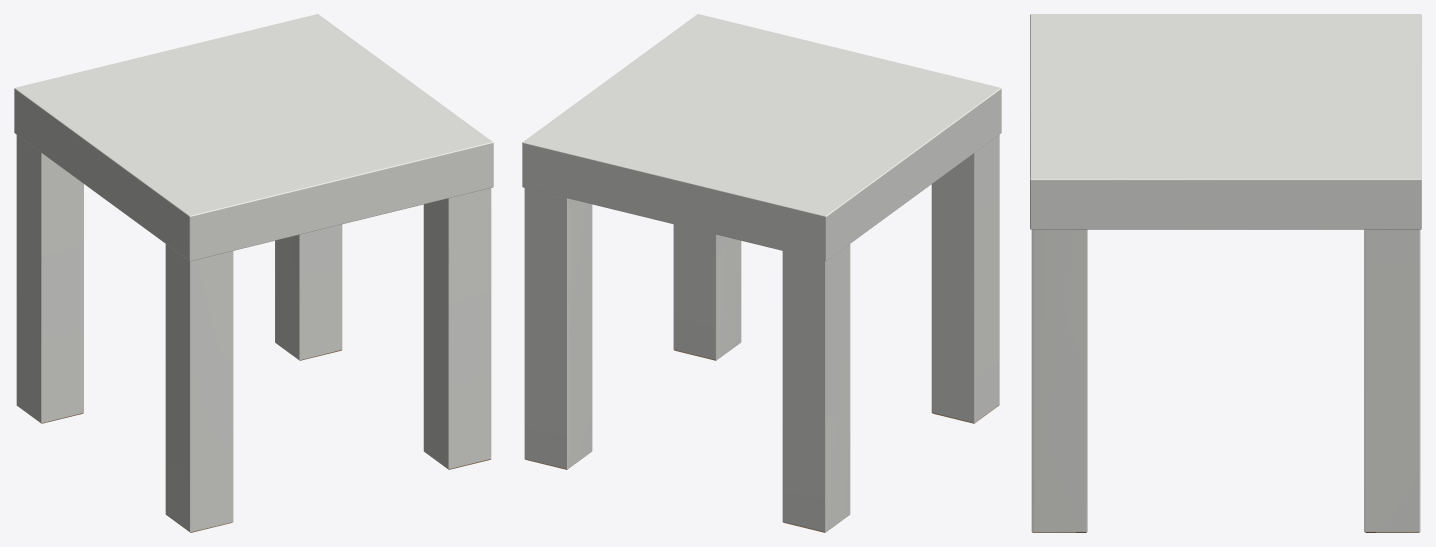
The model's file is lack_side_table_white.glb.
3 views of the same model, side by side, from view 1: azimuth 30°, elevation 25°; view 2: azimuth 150°, elevation 25°; view 3: azimuth 270°, elevation 25° (orthographic). The views are drawn at different scales.
Parts seen in each view (by area): view 1: model; view 2: model; view 3: model.
Part boxes in pixels (x1=…): model: x1=14, y1=14, x2=493, y2=532; model: x1=522, y1=14, x2=1001, y2=532; model: x1=1030, y1=14, x2=1421, y2=532.
Size of the model in its own units: 0.35 by 0.35 by 0.35.
1 material, 1 textured.
